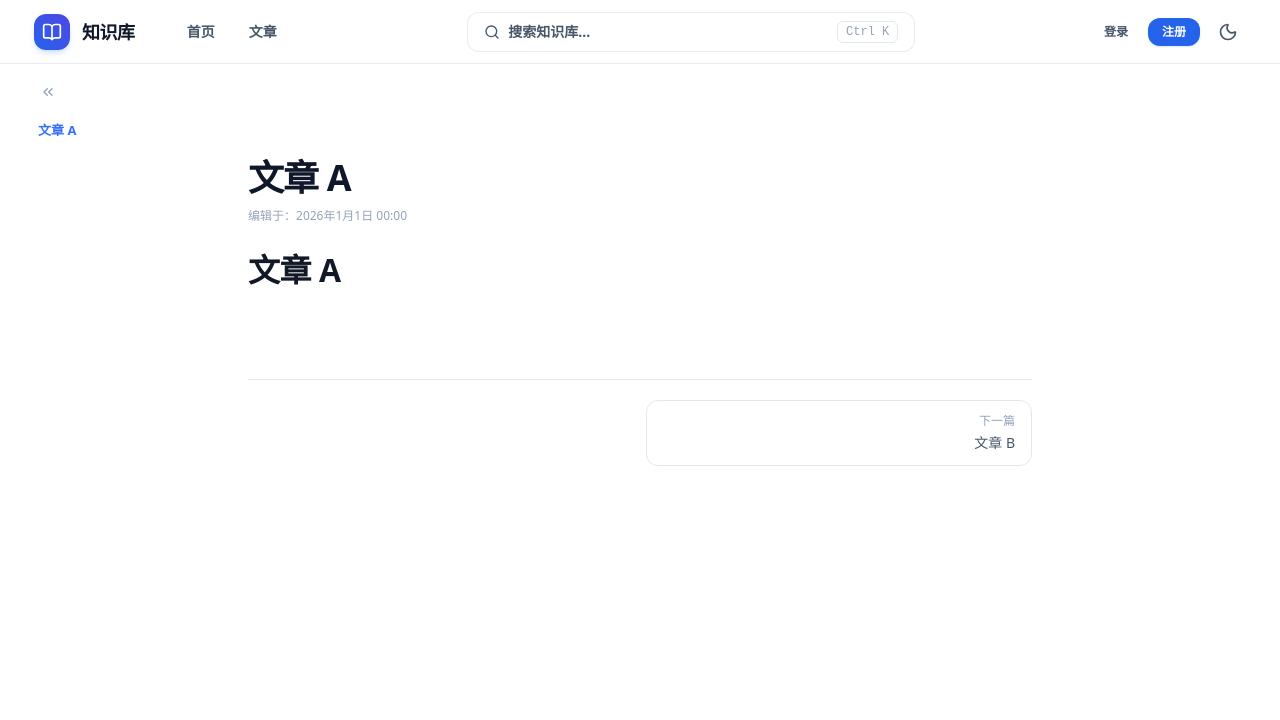
Test: public document routing › replaces retained content with an error when navigation fails
Check: the 1st heading "文章 A" is shown, box [248, 153, 351, 202]
Step 1. Click the link "下一篇 文章 B" → click(997, 420), box [646, 400, 1032, 466]
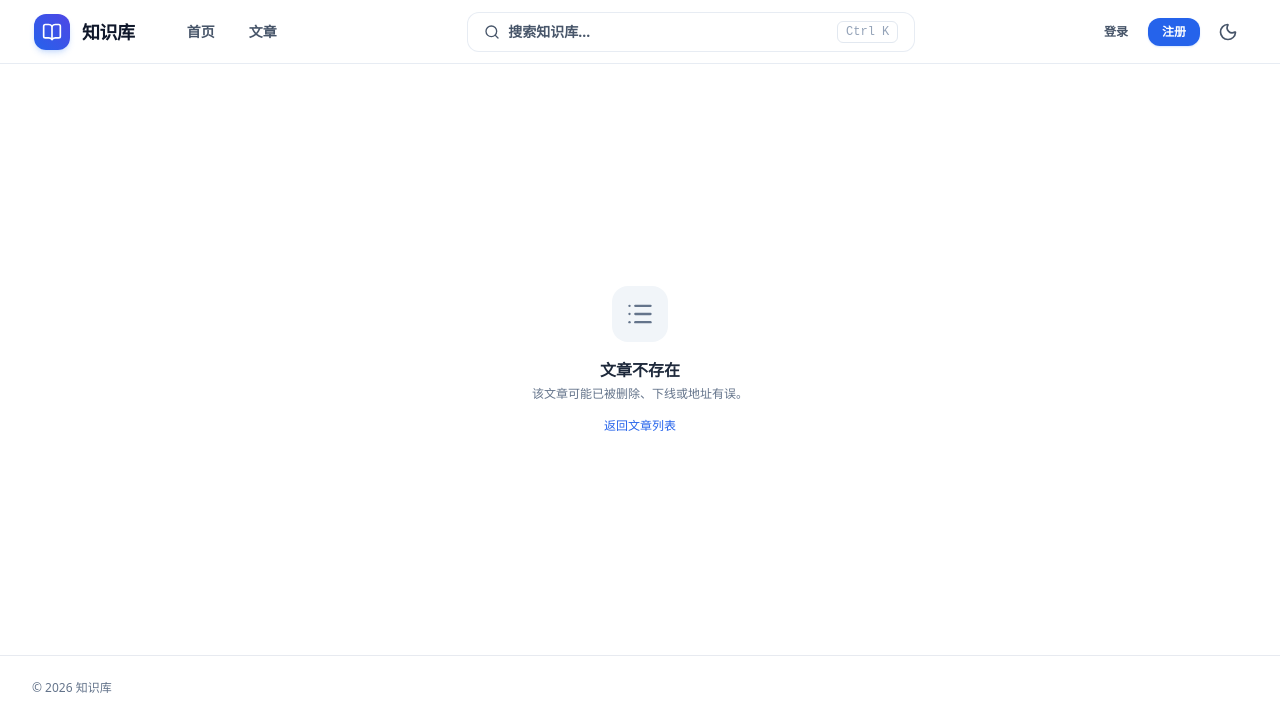
Check: the heading "文章不存在" is shown, box [600, 358, 680, 382]
Check: the link "文章 A" is gone
